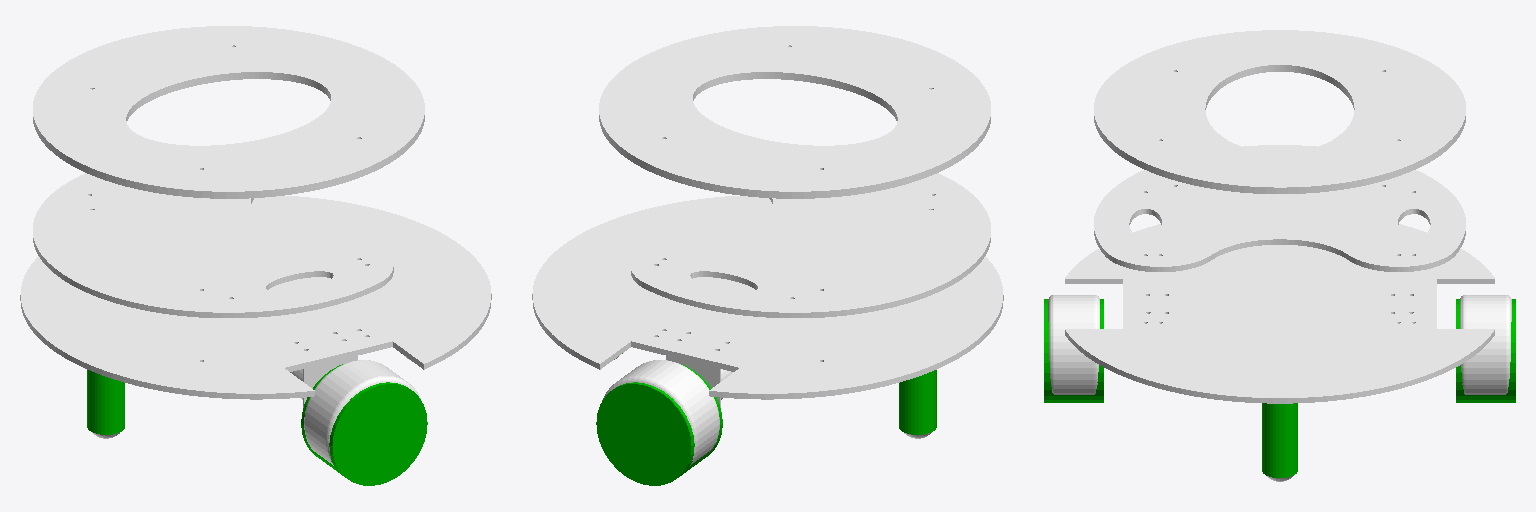
robot.urdf — simbha_model:
<?xml version="1.0" ?>

<robot name="simbha_model" xmlns:xacro="http://www.ros.org/wiki/xacro">
  <!-- Wheels -->
  <!-- in kg-->
  <!-- Defining the colors used in this robot -->
  
  <material name="Black">
    <color rgba="0.0 0.0 0.0 1.0"/>
  </material>
  <material name="Red">
    <color rgba="0.8 0.0 0.0 1.0"/>
  </material>
  <material name="Green">
    <color rgba="0.0 0.8 0.0 1.0"/>
  </material>
  <material name="White">
    <color rgba="1.0 1.0 1.0 1.0"/>
  </material>
  <material name="Blue">
    <color rgba="0.0 0.0 0.8 1.0"/>
  </material>
   --&gt; 

  <!-- BASE-LINK -->
  <!--Actual body/chassis of the robot-->

  <link name="base_link">
    <visual>
      <origin rpy="-1.57079632679 0 1.57079632679" xyz="0 0 0.07"/>
      <geometry>
         <mesh filename="package://simbha_model/urdf/stl/Combine_Lower_Body.stl" scale="0.001 0.001 0.001"/>
      </geometry>
      <material name="White"/>
    </visual>
        <collision>
      <origin rpy="0 0 0 " xyz="0 0 0.07"/>
      <geometry>
        <cylinder length="0.004" radius="0.20"/>
      </geometry>
   <material name="White"/>
    </collision>
  </link>
  <gazebo reference="base_link">
    <material>Gazebo/White</material>
    <turnGravityOff>false</turnGravityOff>
  </gazebo>
<!-- middle link  -->
 
 <link name="middle_link">
    <inertial>
      <mass value="0.2"/>
      <origin rpy="0 0 0" xyz="0 0 0"/>
      <!--The 3x3 rotational inertia matrix. -->
       <inertia ixx="0.0000282916666667" ixy="0" ixz="0" iyy="0.0000282916666667" iyz="0" izz="0.00005625"/>
    </inertial>
    <visual>
      <origin rpy="-1.57079632679 0 1.57079632679" xyz="0 0 0"/>
      <geometry>
         <mesh filename="package://simbha_model/urdf/stl/Middle_body.stl" scale="0.001 0.001 0.001"/>
      </geometry>
      <material name="White"/>
    </visual>
        <collision>
      <origin rpy="-1.57079632679 0 1.57079632679" xyz="0 0 0"/>
      <geometry>
         <mesh filename="package://simbha_model/urdf/stl/Middle_body.stl" scale="0.001 0.001 0.001"/>
      </geometry>
   <material name="White"/>
    </collision>
  </link>
  <gazebo reference="middle_link">
    <material>Gazebo/White</material>
    <turnGravityOff>false</turnGravityOff>
  </gazebo>

<joint name="middle_joint" type="fixed">
    <parent link="base_link"/>
    <child link="middle_link"/>
    <origin rpy="0 0 0" xyz="0 0.0 .07"/>
  </joint>
  <gazebo reference="middle_link">
    <turnGravityOff>false</turnGravityOff>
    <material>Gazebo/White</material>
  </gazebo>
<!-- end middle link -->

<!-- top link -->
 <link name="top_link">
    <inertial>
      <mass value="0.3"/>
      <origin rpy="0 0 0" xyz="0 0 0"/>
      <!--The 3x3 rotational inertia matrix. -->
       <inertia ixx="0.0000282916666667" ixy="0" ixz="0" iyy="0.0000282916666667" iyz="0" izz="0.00005625"/>
    </inertial>
    <visual>
      <origin rpy="-1.57079632679 0 1.57079632679" xyz="0 0 0"/>
      <geometry>
         <mesh filename="package://simbha_model/urdf/stl/Upper_body.stl" scale="0.001 0.001 0.001"/>
      </geometry>
      <material name="White"/>
    </visual>
        <collision>
      <origin rpy="-1.57079632679 0 1.57079632679" xyz="0 0 0"/>
      <geometry>
         <mesh filename="package://simbha_model/urdf/stl/Upper_body.stl" scale="0.001 0.001 0.001"/>
      </geometry>
   <material name="White"/>
    </collision>
  </link>
  <gazebo reference="top_link">
    <material>Gazebo/White</material>
    <turnGravityOff>false</turnGravityOff>
  </gazebo>

<joint name="top_joint" type="fixed">
    <parent link="middle_link"/>
    <child link="top_link"/>
    <origin rpy="0 0 0" xyz="0 0.0 .035"/>
  </joint>
  <gazebo reference="top_link">
    <turnGravityOff>false</turnGravityOff>
    <material>Gazebo/White</material>
  </gazebo>
  <!-- end top link -->


  <link name="right_wheel">
    <visual>
      <origin rpy="1.57079632679 0  0 " xyz="0 0 0"/>
      <geometry>
        <cylinder length="0.04" radius="0.035"/>
      </geometry>
      <material name="Green"/>
    </visual>
    <collision>
      <origin rpy="1.57079632679 0 0 " xyz="0 0 0"/>
      <geometry>
        <cylinder length="0.04" radius="0.035"/>
      </geometry>
    </collision>
    <inertial>
      <mass value="0.5"/>
      <origin xyz="0 0 0"/>
      <inertia ixx="0.0001" ixy="0" ixz="0" iyy="0.0001" iyz="0" izz="0.0001"/>
    </inertial>
  </link>
  <gazebo reference="right_wheel">
    <mu1 value="1.0"/>
    <mu2 value="1.0"/>
    <kp value="100000.0"/>
    <kd value="1.0"/>
    <fdir1 value="1 0 0"/>
    <material>Gazebo/Green</material>
    <turnGravityOff>false</turnGravityOff>
  </gazebo>
  <joint name="right_wheel_joint" type="continuous">
    <parent link="base_link"/>
    <child link="right_wheel"/>
      <origin rpy="0 0 0" xyz="0.0 -0.138 0.035"/>
    <axis rpy="0 0 0" xyz="0 1 0"/>
    <limit effort="100" velocity="100"/>
    <joint_properties damping="0.0" friction="0.0"/>
  </joint>
  <!-- Transmission is important to link the joints and the controller -->


  <transmission name="right_wheel_joint_trans">
    <type>transmission_interface/SimpleTransmission</type>
    <joint name="right_wheel_joint"/>
    <actuator name="right_wheel_joint_motor">
      <hardwareInterface>EffortJointInterface</hardwareInterface>
      <mechanicalReduction>1</mechanicalReduction>
    </actuator>
  </transmission>

 <link name="left_wheel">
    <visual>
      <origin rpy="1.57079632679 0  0 " xyz="0 0 0"/>
      <geometry>
        <cylinder length="0.04" radius="0.035"/>
      </geometry>
      <material name="Green"/>
    </visual>
    <collision>
      <origin rpy="1.57079632679 0 0 " xyz="0 0 0"/>
      <geometry>
        <cylinder length="0.04" radius="0.035"/>
      </geometry>
    </collision>
    <inertial>
      <mass value="0.5"/>
      <origin xyz="0 0 0"/>
      <inertia ixx="0.0001" ixy="0" ixz="0" iyy="0.0001" iyz="0" izz="0.0001"/>
    </inertial>
  </link>
  <gazebo reference="left_wheel">
    <mu1 value="1.0"/>
    <mu2 value="1.0"/>
    <kp value="100000.0"/>
    <kd value="1.0"/>
    <fdir1 value="1 0 0"/>
    <material>Gazebo/Green</material>
    <turnGravityOff>false</turnGravityOff>
  </gazebo>
  <joint name="left_wheel_joint" type="continuous">
    <parent link="base_link"/>
    <child link="left_wheel"/>
    <origin rpy="0 0 0" xyz="0 0.138 0.035"/>
    <axis rpy="0  0" xyz="0 1 0"/>
    <limit effort="100" velocity="100"/>
    <joint_properties damping="0.0" friction="0.0"/>
  </joint>

  <!-- Transmission is important to link the joints and the controller -->
  <transmission name="left_wheel_joint_trans">
    <type>transmission_interface/SimpleTransmission</type>
    <joint name="left_wheel_joint"/>
    <actuator name="left_wheel_joint_motor">
      <hardwareInterface>EffortJointInterface</hardwareInterface>
      <mechanicalReduction>1</mechanicalReduction>
    </actuator>
  </transmission>


  <!--Caster front  -->

  <link name="caster_front_link">
    <visual>
      <origin rpy="1.57079632679 0 0" xyz="0 0 0"/>
      <geometry>
        <sphere radius="0.01214"/>
      </geometry>
      <material name="White"/>
    </visual>
    <collision>
      <geometry>
        <sphere radius="0.007"/>
      </geometry>
      <origin rpy="1.57079632679 0 0" xyz="0 0 0"/>
    </collision>
    <inertial>
      <mass value="0.01"/>
      <origin xyz="0 0 0"/>
      <inertia ixx="0.0000001" ixy="0.0" ixz="0.0" iyy="0.0000001" iyz="0.0" izz="0.0000001"/>
    </inertial>
  </link>
  <joint name="caster_front_joint" type="continuous">
    <parent link="caster_link"/>
    <child link="caster_front_link"/>
    <origin rpy="0 0 0" xyz="0.05 0 -0.0275"/>
    <axis rpy="0 0 0" xyz="0 1 0"/>
  </joint>
  <gazebo reference="caster_front_link">
<!--     <mu1 value="1.0"/>
    <mu2 value="1.0"/>
    <kp value="100000.0"/>
    <kd value="1.0"/>
    <fdir1 value="1 1 0"/> -->
    <turnGravityOff>false</turnGravityOff>
    <material>Gazebo/White</material>
  </gazebo>
  
<link name="caster_link">
    <visual>
      <origin rpy="0 0  0 " xyz="0.05 0 0"/>
      <geometry>
        <cylinder length="0.065" radius="0.01214"/>
      </geometry>
      <material name="Green"/>
    </visual>
    <collision>
      <origin rpy="0 0 0 " xyz="0.05 0 0"/>
      <geometry>
        <cylinder length="0.065" radius="0.005"/>
      </geometry>
    </collision>
    <inertial>
      <mass value="0.05"/>
      <origin xyz="0.05 0 0"/>
      <inertia ixx="0.00001" ixy="0" ixz="0" iyy="0.00001" iyz="0" izz="0.00001"/>
    </inertial>
  </link>
  
<joint name="caster_front_joint_base" type="fixed">
    <parent link="base_link"/>
    <child link="caster_link"/>
    <origin rpy="0 0 0" xyz="0.07 0.0 .035"/>
  </joint>
  <gazebo reference="caster_link">
    <turnGravityOff>false</turnGravityOff>
    <material>Gazebo/White</material>
  </gazebo>

  <!--Caster back  -->

  <link name="caster_back_link">
    <visual>
      <origin rpy="1.57079632679 0 0" xyz="0 0 0"/>
      <geometry>
        <sphere radius="0.01214"/>
      </geometry>
      <material name="White"/>
    </visual>
    <collision>
      <geometry>
        <sphere radius="0.007"/>
      </geometry>
      <origin rpy="1.57079632679 0 0" xyz="0 0 0"/>
    </collision>
    <inertial>
      <mass value="0.01"/>
      <origin xyz="0 0 0"/>
      <inertia ixx="0.0000001" ixy="0.0" ixz="0.0" iyy="0.0000001" iyz="0.0" izz="0.0000001"/>
    </inertial>
  </link>
  <joint name="caster_back_joint" type="continuous">
    <parent link="caster_b_link"/>
    <child link="caster_back_link"/>
    <origin rpy="0 0 0" xyz="0.05 0 -0.0275"/>
    <axis rpy="0 0 0" xyz="0 1 0"/>
  </joint>
  <gazebo reference="caster_front_link">
<!--     <mu1 value="1.0"/>
    <mu2 value="1.0"/>
    <kp value="100000.0"/>
    <kd value="1.0"/>
    <fdir1 value="1 1 0"/> -->
    <turnGravityOff>false</turnGravityOff>
    <material>Gazebo/White</material>
  </gazebo>
  
<link name="caster_b_link">
    <visual>
      <origin rpy="0 0  0 " xyz="0.05 0 0"/>
      <geometry>
        <cylinder length="0.065" radius="0.01214"/>
      </geometry>
      <material name="Green"/>
    </visual>
    <collision>
      <origin rpy="0 0 0 " xyz="0.05 0 0"/>
      <geometry>
        <cylinder length="0.065" radius="0.005"/>
      </geometry>
    </collision>
    <inertial>
      <mass value="0.05"/>
      <origin xyz="0.05 0 0"/>
      <inertia ixx="0.00001" ixy="0" ixz="0" iyy="0.00001" iyz="0" izz="0.00001"/>
    </inertial>
  </link>

<joint name="caster_back_joint_base" type="fixed">
    <parent link="base_link"/>
    <child link="caster_b_link"/>
    <origin rpy="0 0 0" xyz="-0.16 0.0 .035"/>
  </joint>
  <gazebo reference="caster_link">
    <turnGravityOff>false</turnGravityOff>
    <material>Gazebo/White</material>
  </gazebo>

<!-- kinect sensor -->
 <link name="kinect_link">
    <inertial>
      <mass value="0.1"/>
      <origin rpy="0 0 0" xyz="0 0 0"/>
      
       <inertia ixx="0.0000282916666667" ixy="0" ixz="0" iyy="0.0000282916666667" iyz="0" izz="0.00005625"/>
    </inertial>
    <visual>
      <origin rpy="0 0 0" xyz="0 0 0"/>
      <geometry>
            <mesh filename="package://simbha_model/urdf/meshes/kinect.stl" scale="0.001 0.001 0.001"/>
            
        </geometry>
      <material name="Black"/>
    </visual>
        <collision>
      <origin rpy="0 0 0" xyz="0 0 0"/>
      <geometry>
        <cylinder length="0.065" radius="0.005"/>
      </geometry>
   <material name="Black"/>
    </collision>

  </link>

<joint name="kinect_joint" type="fixed">
    <parent link="middle_link"/>
    <child link="kinect_link"/>
      <origin rpy="0 0 0" xyz="0.075 0.0 0.155"/>
  </joint>
  <gazebo reference="kinect_link">
    <turnGravityOff>false</turnGravityOff>
    <material>Gazebo/Black</material>
  
        <sensor name='camera' type='depth'>
          <always_on>1</always_on>
          <update_rate>20</update_rate>
          <camera name='__default__'>
            <horizontal_fov>1.0472</horizontal_fov>
            <image>
              <format>B8G8R8</format>
              <width>640</width>
              <height>480</height>
            </image>
            <clip>
              <near>0.05</near>
              <far>8</far>
            </clip>
          </camera>
          <plugin name='kinect_camera_controller' filename='libgazebo_ros_openni_kinect.so'>
            <cameraName>camera</cameraName>
            <alwaysOn>true</alwaysOn>
            <updateRate>10</updateRate>
            <imageTopicName>rgb/image_raw</imageTopicName>
            <depthImageTopicName>depth/image_raw</depthImageTopicName>
            <pointCloudTopicName>depth/points</pointCloudTopicName>
            <cameraInfoTopicName>rgb/camera_info</cameraInfoTopicName>
            <depthImageCameraInfoTopicName>depth/camera_info</depthImageCameraInfoTopicName>
            <frameName>kinect_link</frameName>
            <baseline>0.1</baseline>
            <distortion_k1>0.0</distortion_k1>
            <distortion_k2>0.0</distortion_k2>
            <distortion_k3>0.0</distortion_k3>
            <distortion_t1>0.0</distortion_t1>
            <distortion_t2>0.0</distortion_t2>
            <pointCloudCutoff>0.4</pointCloudCutoff>
            <robotNamespace>/</robotNamespace>
          </plugin>
          <pose>-0.087 -0.0015 0.2972 1.58 0 0</pose>
        </sensor>
        </gazebo>
<!-- kinect sensor end -->
<gazebo>
    <plugin filename="libgazebo_ros_diff_drive.so" name="differential_drive_controller_front">
      <rosDebugLevel>Debug</rosDebugLevel>
      <publishWheelTF>True</publishWheelTF>
      <publishTf>1</publishTf>
      <publishWheelJointState>true</publishWheelJointState>
      <alwaysOn>true</alwaysOn>
      <updateRate>10.0</updateRate>
      <leftJoint>left_wheel_joint</leftJoint>
      <rightJoint>right_wheel_joint</rightJoint>
      <wheelSeparation>0.3</wheelSeparation>
      <wheelDiameter>0.065</wheelDiameter>
      <broadcastTF>1</broadcastTF>
      <wheelTorque>30</wheelTorque>
      <wheelAcceleration>1.8</wheelAcceleration>
      <commandTopic>cmd_vel</commandTopic>
      <odometryFrame>odom</odometryFrame>
      <odometryTopic>odom</odometryTopic>
      <robotBaseFrame>base_link</robotBaseFrame>
    </plugin>
  </gazebo>
 
</robot>

--- Render facts (derived) ---
Views: 3 orthographic renders of the robot side by side, from view 1: azimuth 30°, elevation 25°; view 2: azimuth 150°, elevation 25°; view 3: azimuth 270°, elevation 25°.
Model simbha_model with 10 links and 9 joints (4 continuous, 5 fixed), rooted at base_link, posed every joint at zero.
Visible links, largest first — view 1: base_link, top_link, middle_link, right_wheel, caster_b_link; view 2: base_link, top_link, middle_link, left_wheel, caster_b_link; view 3: base_link, top_link, middle_link, caster_link, right_wheel, left_wheel.
Boxes of the visible links, x1,y1,x2,y2 form: base_link: (20,196,491,465); top_link: (33,26,424,198); middle_link: (33,173,393,317); right_wheel: (301,364,427,485); caster_b_link: (87,370,124,434); base_link: (532,196,1003,465); top_link: (599,26,990,198); middle_link: (631,173,990,317); left_wheel: (596,364,722,485); caster_b_link: (899,370,936,434); base_link: (1048,224,1511,403); top_link: (1094,30,1465,193); middle_link: (1094,145,1465,271); caster_link: (1262,403,1297,477); right_wheel: (1044,299,1103,402); left_wheel: (1456,299,1515,402).
Size in the robot's own frame: 0.2999 by 0.316 by 0.2096 metres.
3 mesh visuals loaded from 4 distinct referenced files (3 binary STL); not drawn: 1 (reference not matched to a file when rendering).
